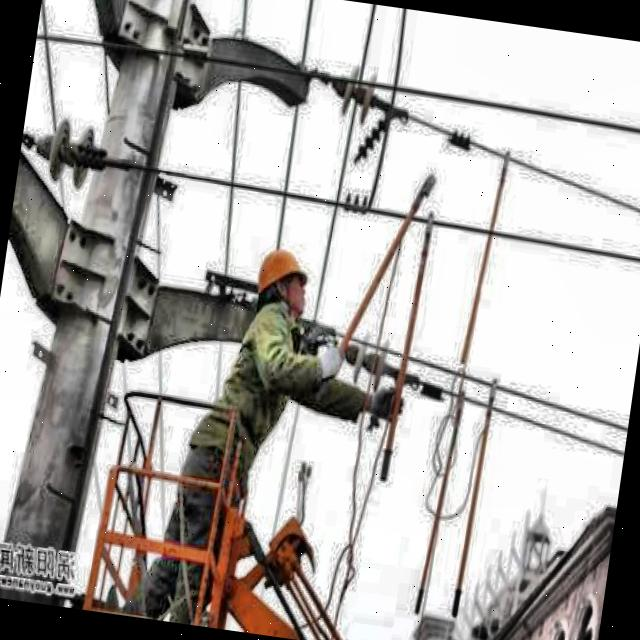helmet: (250, 242, 314, 328)
